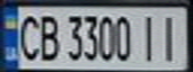0: (115, 11, 136, 62), (97, 12, 118, 62)
3: (60, 11, 84, 62), (78, 11, 100, 62)
B: (33, 11, 60, 62)
C: (12, 11, 42, 63)
I: (154, 11, 187, 62), (136, 11, 163, 62)
